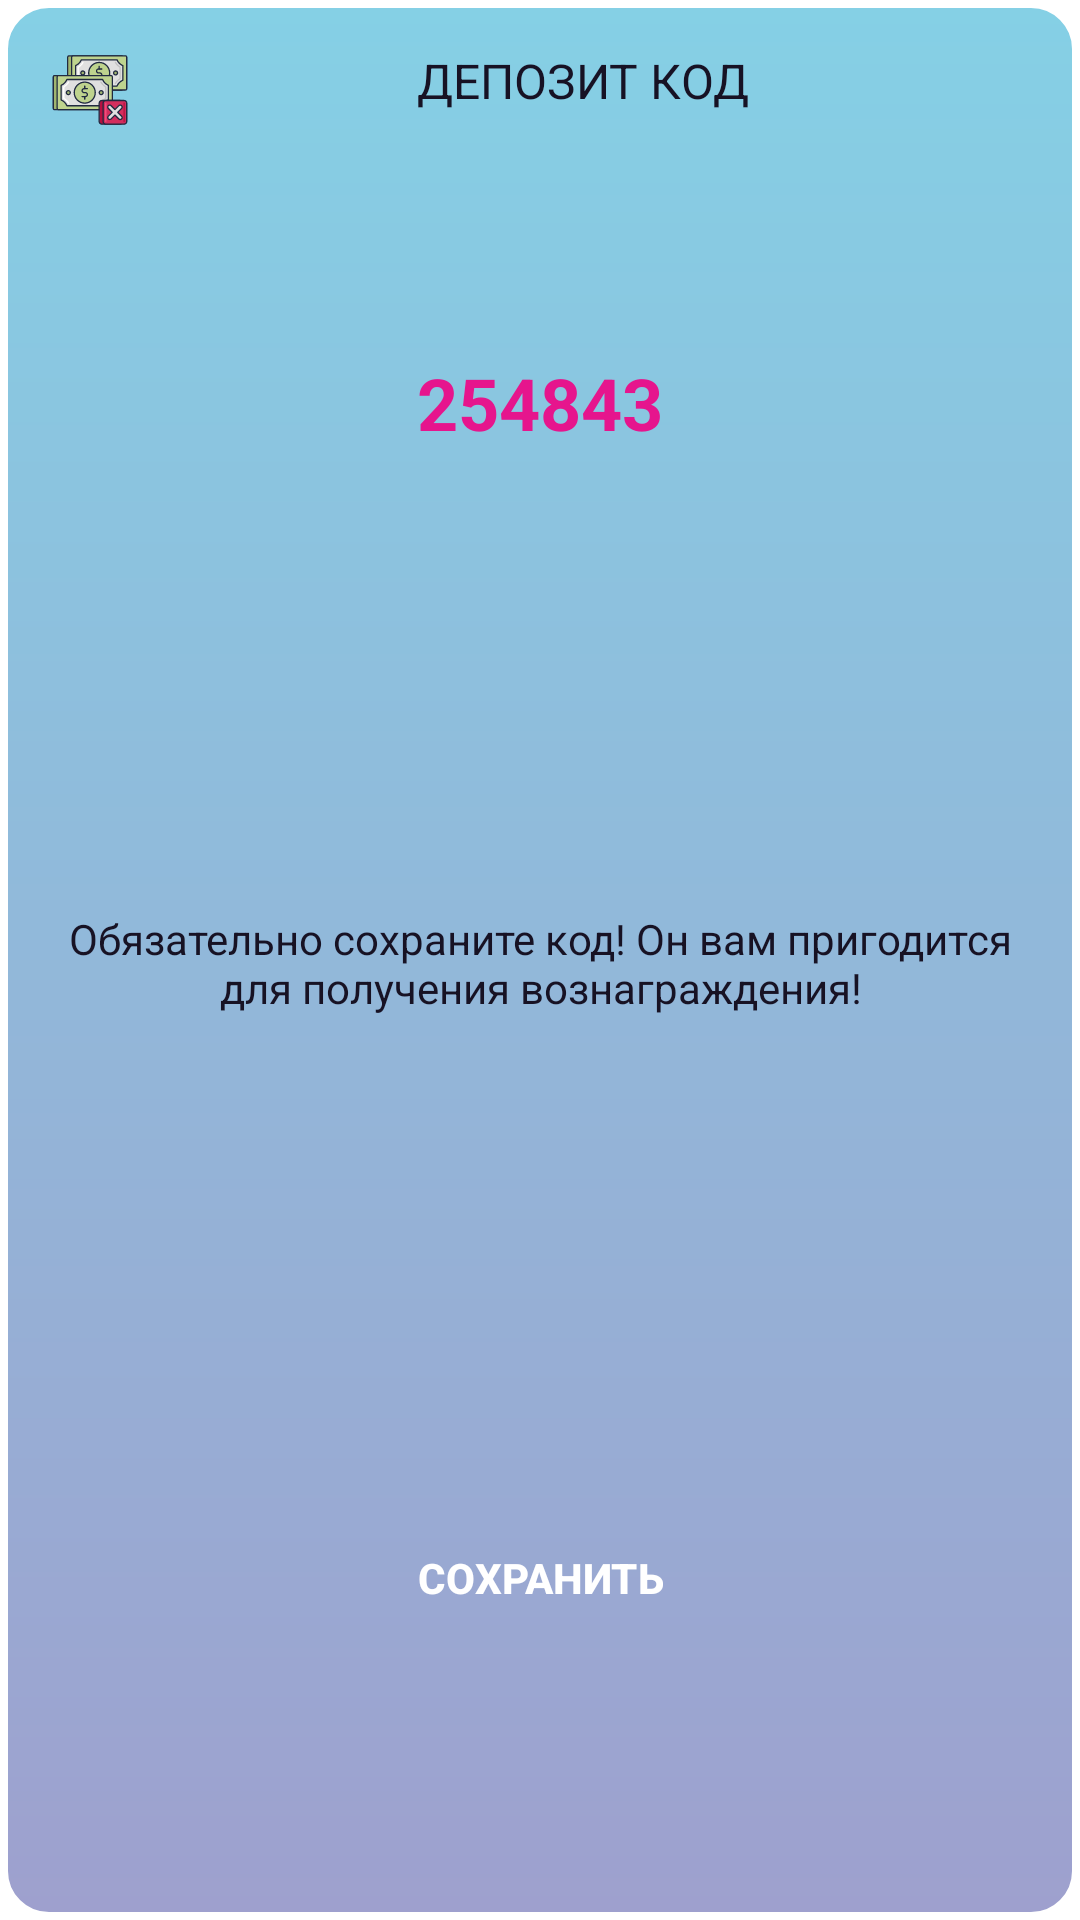

Point at icon controls on the screen. Image size 1080*1920, points as (x=x, y=y).
cash: (x=90, y=90)
